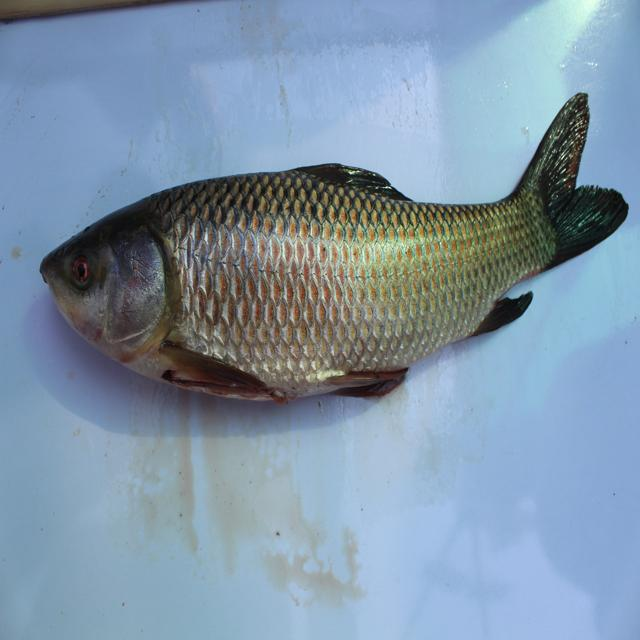Rohu: (37, 159, 612, 406)
